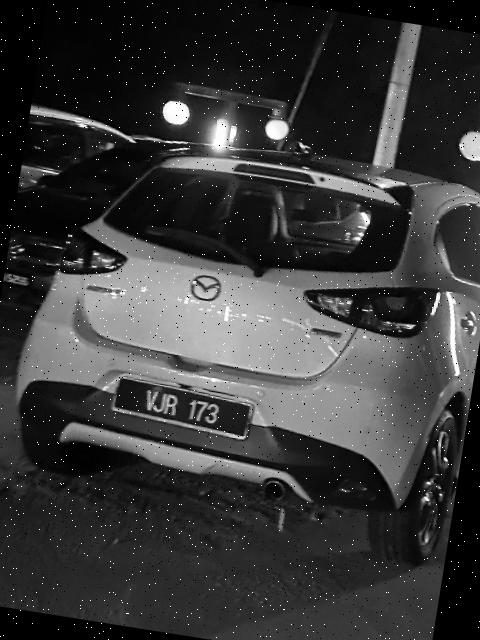License_Plate: (112, 377, 255, 443)
car: (1, 108, 480, 574)
